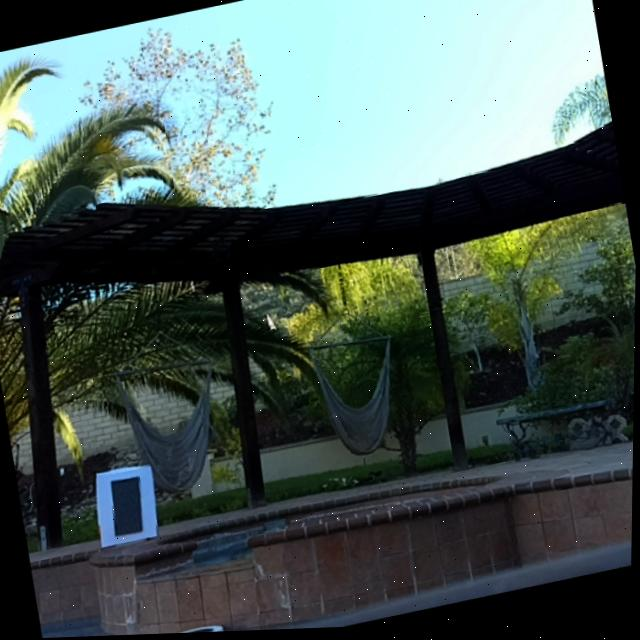led: (107, 474, 149, 538)
